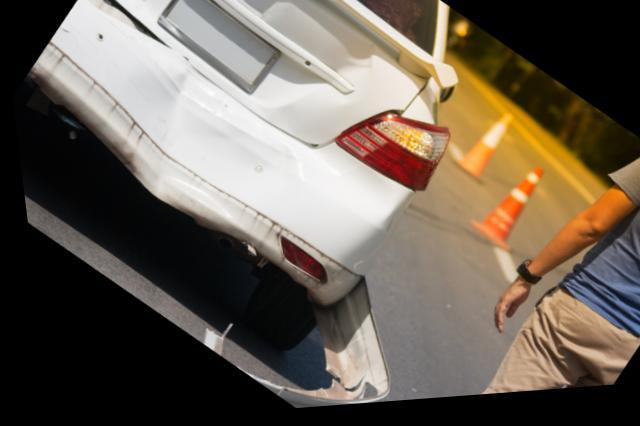dent: (109, 0, 374, 129), (136, 67, 299, 226)
dislocated part: (150, 163, 379, 412)
